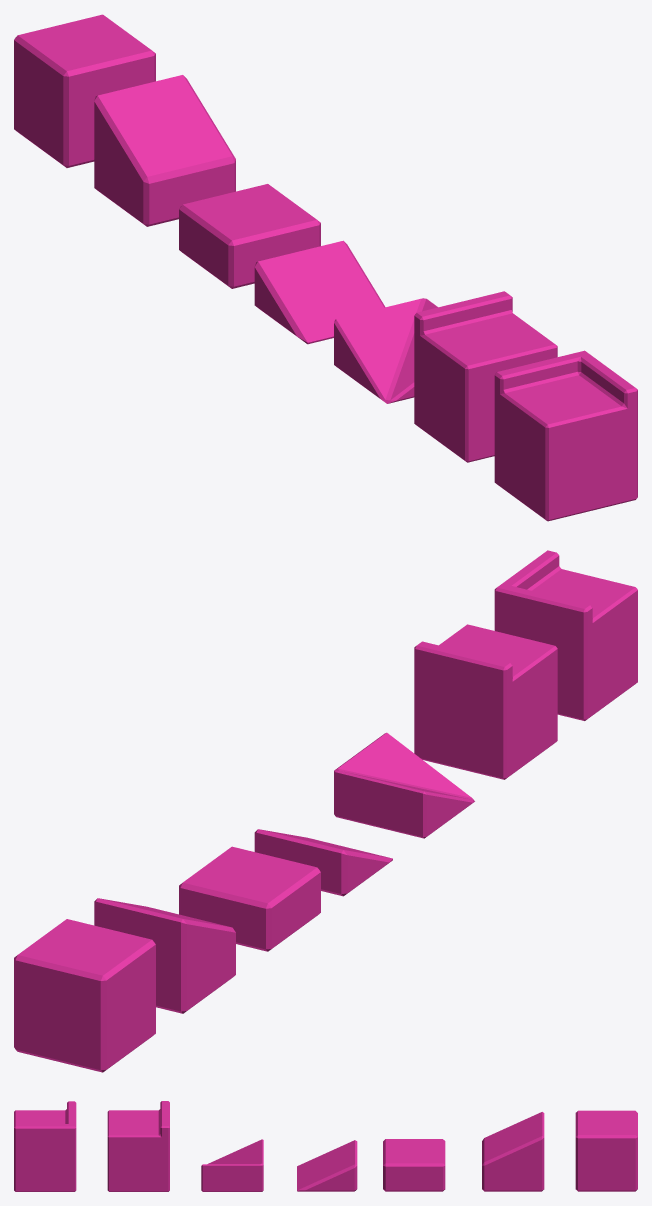
The model's file is blocks-pirple.glb.
3 views of the same model, one above another, from view 1: azimuth 30°, elevation 25°; view 2: azimuth 150°, elevation 25°; view 3: azimuth 270°, elevation 25° (orthographic). The views are drawn at different scales.
Parts seen in each view (by area): view 1: block_wall_corner, ramp_top, block_wall, block, miniblock, ramp_bottom, ramp_lower_corner; view 2: block_wall, block, block_wall_corner, miniblock, ramp_lower_corner, ramp_top, ramp_bottom; view 3: block_wall, block_wall_corner, block, ramp_top, miniblock, ramp_lower_corner, ramp_bottom.
Boxes of the visible parts, x1,y1,x2,y2 form: block_wall_corner: (494,350,637,521); ramp_top: (94,75,235,226); block_wall: (414,291,557,462); block: (14,14,155,167); miniblock: (179,184,320,288); ramp_bottom: (254,240,385,344); ramp_lower_corner: (334,298,437,403); block_wall: (414,624,557,779); block: (14,919,155,1072); block_wall_corner: (494,550,637,720); miniblock: (179,846,320,951); ramp_lower_corner: (334,732,474,838); ramp_top: (94,898,235,1013); ramp_bottom: (254,829,392,896); block_wall: (107,1101,169,1191); block_wall_corner: (14,1101,76,1191); block: (575,1110,637,1191); ramp_top: (482,1112,544,1191); miniblock: (383,1139,445,1191); ramp_lower_corner: (201,1139,263,1191); ramp_bottom: (297,1140,357,1191).
Size of what is drawn, in the model's own units: 2 by 2.33 by 20.
